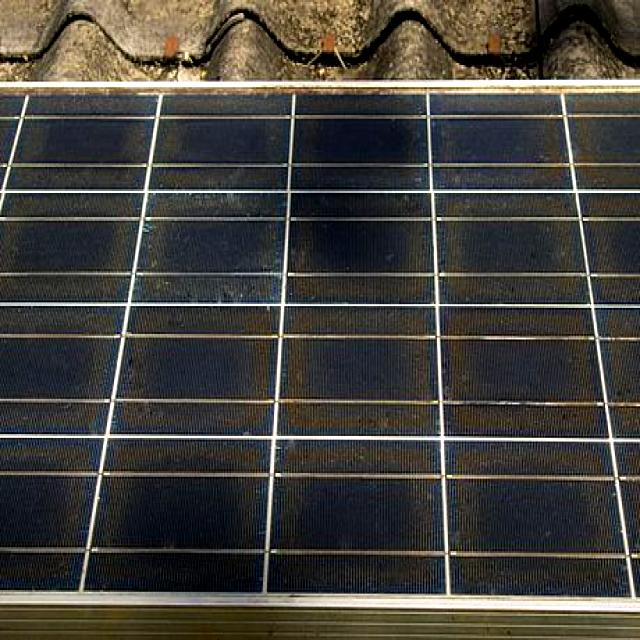shadow: (450, 442, 622, 606), (262, 444, 442, 594), (106, 431, 248, 601), (443, 320, 594, 440), (123, 312, 268, 434), (440, 188, 577, 308), (292, 312, 430, 428), (144, 189, 280, 303), (293, 82, 426, 186), (294, 195, 428, 298), (0, 444, 101, 576), (155, 92, 288, 182), (0, 311, 101, 428), (0, 95, 135, 182), (433, 96, 566, 183), (0, 200, 116, 292), (603, 196, 639, 416), (576, 96, 640, 178)
